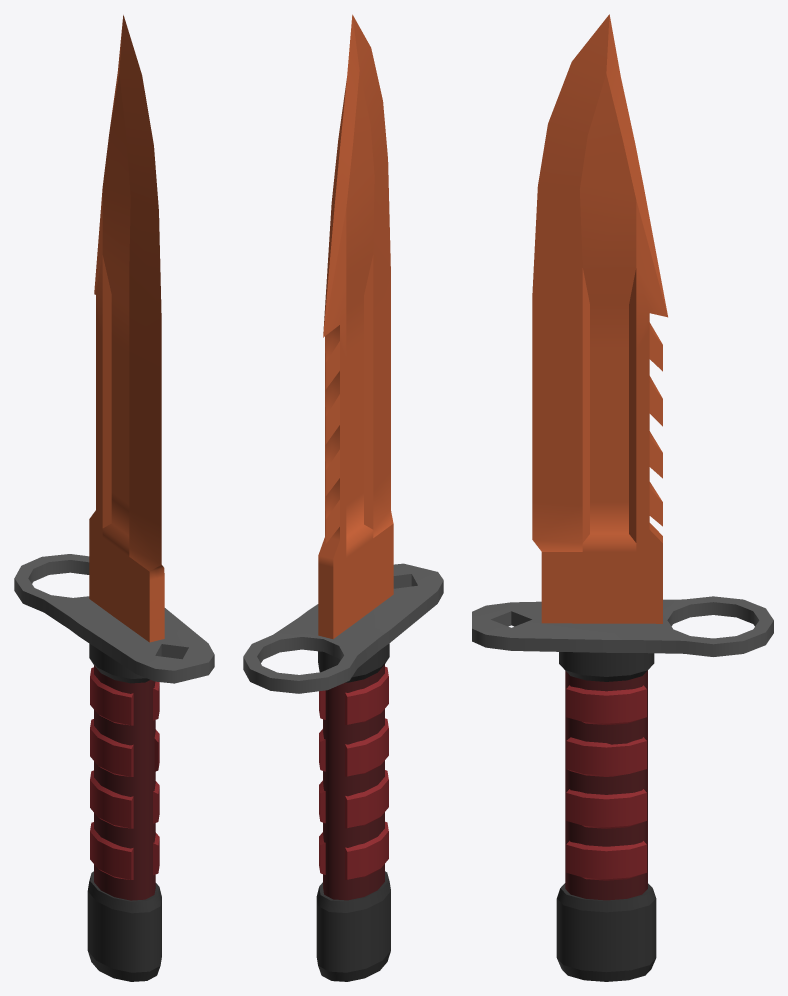
Rendered from fbxKnife.fbx.
The picture shows the model from 3 angles, left to right: view 1: azimuth 30°, elevation 25°; view 2: azimuth 150°, elevation 25°; view 3: azimuth 270°, elevation 25°; orthographic projection.
Visible parts, largest first — view 1: Knife; view 2: Knife; view 3: Knife.
Boxes of the visible parts, x1,y1,x2,y2 form: Knife: [14, 15, 214, 981]; Knife: [243, 14, 443, 981]; Knife: [472, 14, 773, 981].
Bounding box in the file's own units: 0.0787 × 0.7315 × 0.2095.
